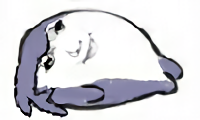dragon: (43, 19, 98, 72)
